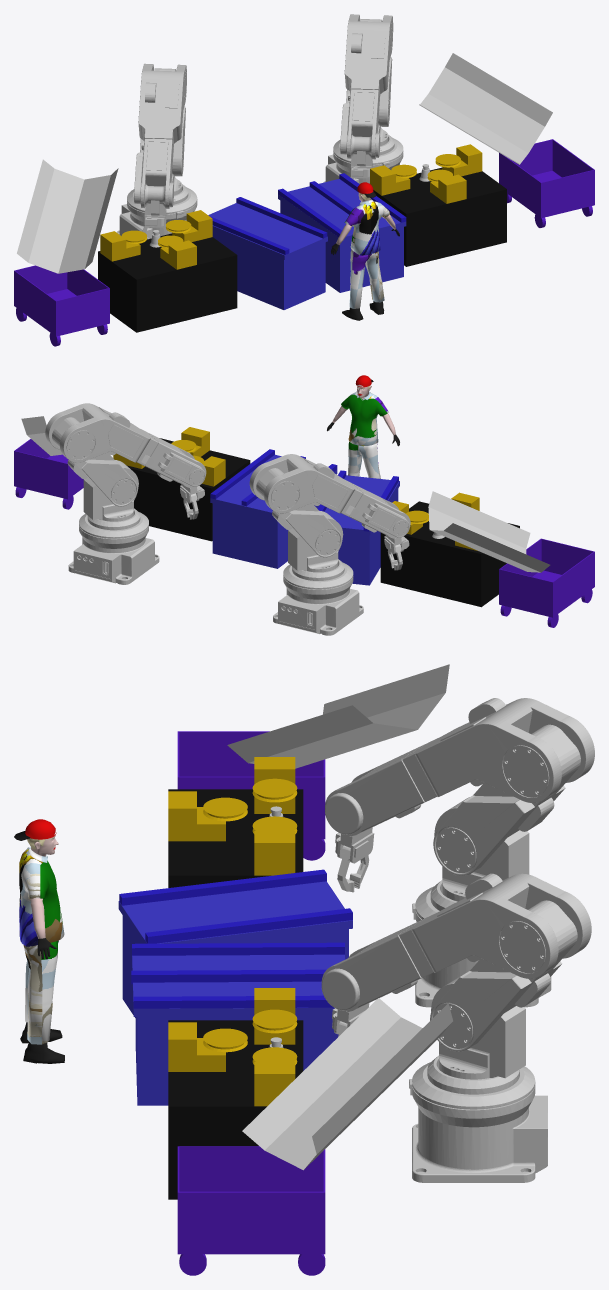
The picture shows the model from 3 angles, top to bottom: view 1: azimuth 30°, elevation 25°; view 2: azimuth 150°, elevation 25°; view 3: azimuth 270°, elevation 25°; orthographic projection. The views are drawn at different scales.
Visible parts, largest first — view 1: Cube.001, OBJ_Robot.001, OBJ_Robot, Cube.003, Cube.002, 평면.001, 평면, 큐브_큐브.003, 큐브_큐브.001, Cube.004, Imported_OBJ_Object_sep42, Imported_OBJ_Object_sep37 (+9 smaller); view 2: OBJ_Robot, OBJ_Robot.001, Cube.001, 큐브_큐브.001, Cube.004, 평면.001, Cube.002, Cube.003, 큐브_큐브.003, Imported_OBJ_Object_sep42, Imported_OBJ_Object_sep37, roll1_큐브.001 (+4 smaller); view 3: OBJ_Robot, OBJ_Robot.001, 큐브_큐브.003, 평면, Cube.004, Cube.003, 평면.001, Cube.002, 큐브_큐브.001, Cube.001, roll1_큐브, Imported_OBJ_Object_sep42 (+11 smaller).
Part boxes in pixels (left/top/right/bottom): Cube.001: left=98, top=233, right=237, bottom=332; OBJ_Robot.001: left=117, top=63, right=197, bottom=239; OBJ_Robot: left=323, top=14, right=403, bottom=183; Cube.003: left=208, top=203, right=327, bottom=309; Cube.002: left=373, top=167, right=506, bottom=266; 평면.001: left=17, top=159, right=118, bottom=273; 평면: left=419, top=53, right=552, bottom=164; 큐브_큐브.003: left=499, top=139, right=594, bottom=218; 큐브_큐브.001: left=14, top=265, right=109, bottom=336; Cube.004: left=278, top=179, right=406, bottom=292; Imported_OBJ_Object_sep42: left=344, top=199, right=389, bottom=255; Imported_OBJ_Object_sep37: left=349, top=249, right=384, bottom=308; OBJ_Robot: left=45, top=403, right=206, bottom=584; OBJ_Robot.001: left=249, top=454, right=410, bottom=635; Cube.001: left=380, top=501, right=519, bottom=607; 큐브_큐브.001: left=499, top=538, right=594, bottom=617; Cube.004: left=210, top=454, right=337, bottom=568; 평면.001: left=428, top=491, right=550, bottom=572; Cube.002: left=126, top=438, right=250, bottom=541; Cube.003: left=324, top=475, right=399, bottom=585; 큐브_큐브.003: left=14, top=439, right=83, bottom=499; Imported_OBJ_Object_sep42: left=341, top=391, right=388, bottom=446; Imported_OBJ_Object_sep37: left=348, top=442, right=380, bottom=478; roll1_큐브.001: left=171, top=427, right=209, bottom=456; OBJ_Robot: left=321, top=873, right=591, bottom=1182; OBJ_Robot.001: left=325, top=698, right=594, bottom=1007; 큐브_큐브.003: left=177, top=1146, right=325, bottom=1254; 평면: left=242, top=998, right=452, bottom=1170; Cube.004: left=132, top=954, right=344, bottom=1105; Cube.003: left=118, top=881, right=352, bottom=1017; 평면.001: left=227, top=664, right=449, bottom=768; Cube.002: left=168, top=1020, right=303, bottom=1199; 큐브_큐브.001: left=177, top=731, right=325, bottom=839; Cube.001: left=168, top=789, right=303, bottom=887; roll1_큐브: left=168, top=791, right=247, bottom=841; Imported_OBJ_Object_sep42: left=19, top=847, right=64, bottom=946.
Size of the model in its own units: 31.94 by 9.02 by 17.
